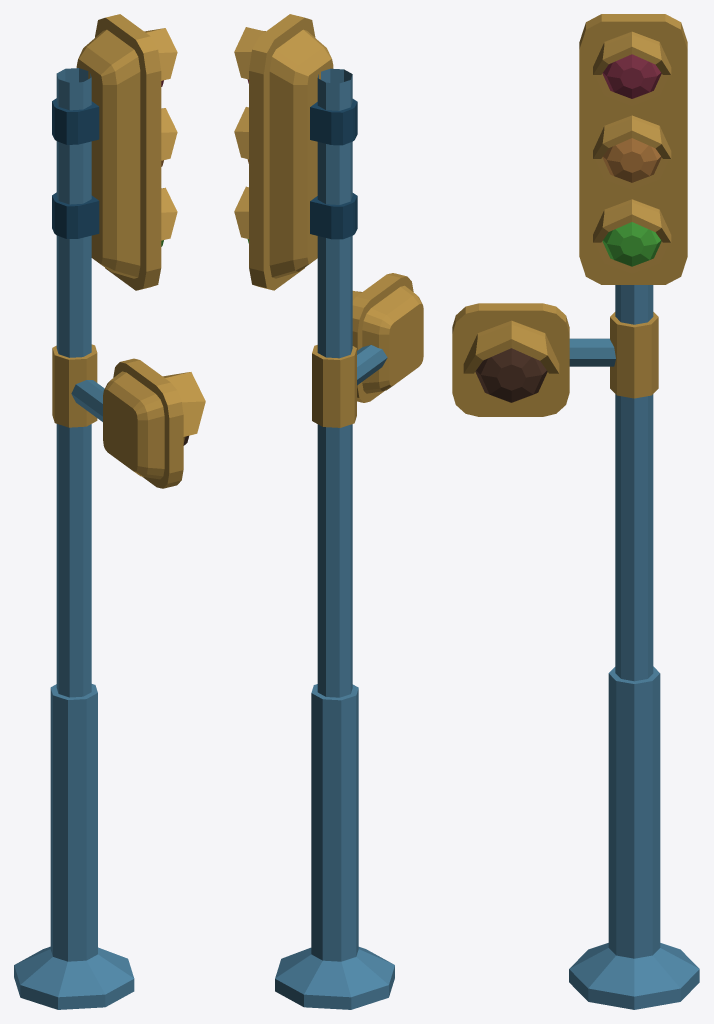
The model's file is lampu mirah.fbx.
3 renders of one model, left to right at view 1: azimuth 30°, elevation 25°; view 2: azimuth 150°, elevation 25°; view 3: azimuth 270°, elevation 25°, orthographic. The views are drawn at different scales.
Visible parts, largest first — view 1: Traffic_Light2; view 2: Traffic_Light2; view 3: Traffic_Light2.
Boxes of the visible parts, <box> form: Traffic_Light2: <box>14,14,205,1009</box>; Traffic_Light2: <box>234,14,423,1009</box>; Traffic_Light2: <box>452,14,699,1009</box>.
Size of the model in its own units: 46 by 288 by 65.13.
Materials: 1 (1 with a texture image).
